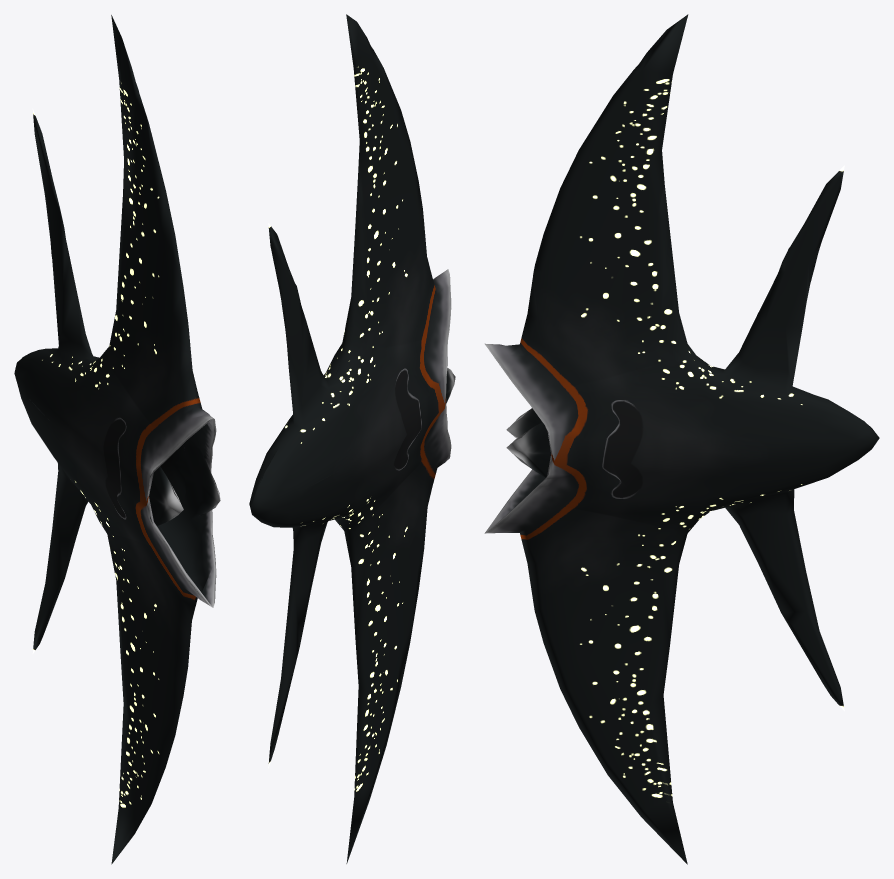
Rendered from StarryFish.fbx.
3 renders of one model, left to right at view 1: azimuth 30°, elevation 25°; view 2: azimuth 150°, elevation 25°; view 3: azimuth 270°, elevation 25°, orthographic.
Visible parts, largest first — view 1: object_0; view 2: object_0; view 3: object_0.
Boxes of the visible parts, x1,y1,x2,y2 form: object_0: (14,15,220,864); object_0: (249,14,455,863); object_0: (484,14,879,864).
Size of the model in its own units: 134 by 1652 by 696.
